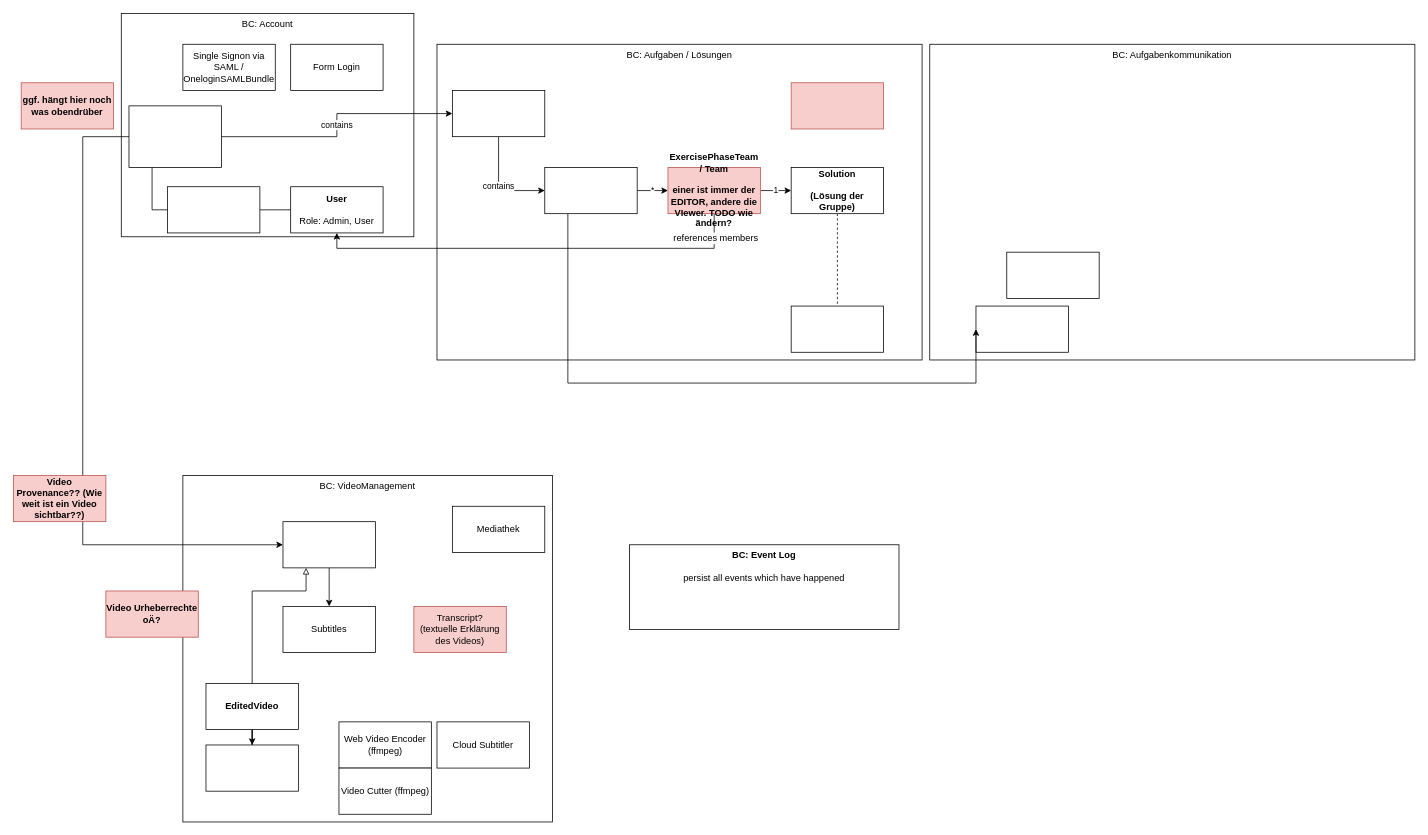
This 1428x835 diagram has some shape labels left out. The shapes that lost their labels are listed below. From the top down, each one's centre as x and y in pixels, then its label:
(498,113): Übergeordnete Aufgabe = Exercise
(837,105): AutosavedSolution??
(174,136): Seminargruppe / Kurs ("Gruppe v. Leuten in bestimmtem Semester)
(213,209): CourseRole: Student / Dozent
(590,190): Arbeitsphase / ExercisePhase (Aufgabenbeschreibung)
(1052,274): "Notizen" -> woran?
(837,328): Collaboration Service (real time syncing of solution)
(1021,328): "Chat" / Forum etc -> an was?
(328,544): Video
(251,767): CutList (immutable)
